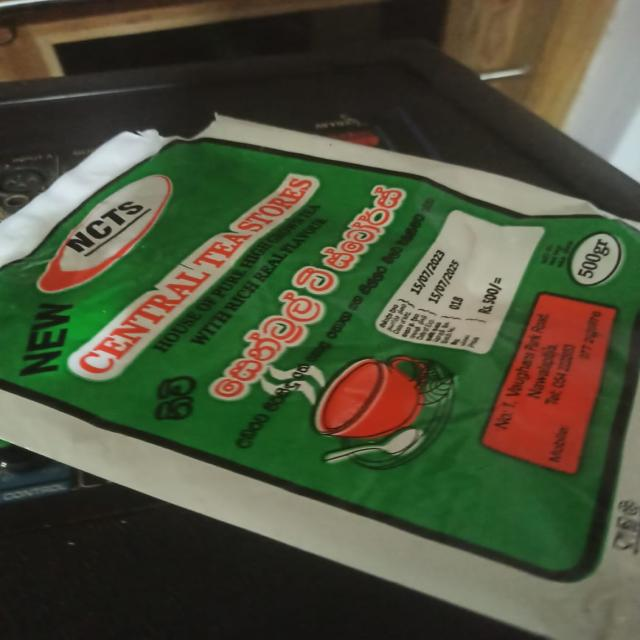Central Tea: (0, 137, 640, 629)
